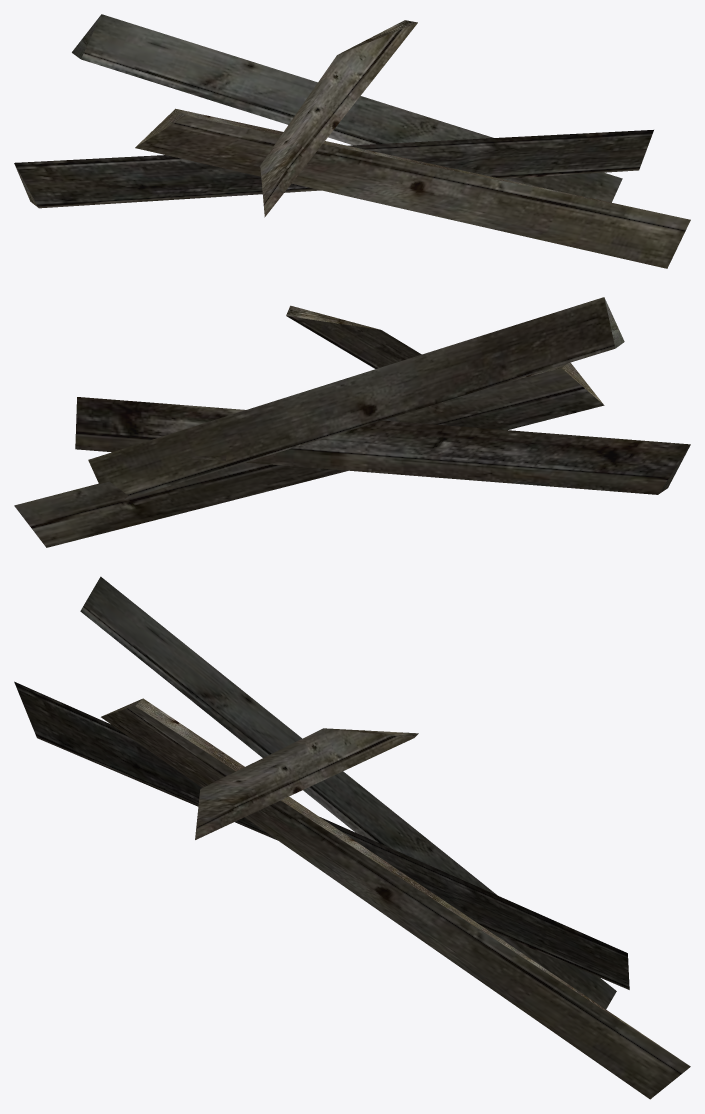
The model's file is prop_destroyedcrateplanks01.glb.
The picture shows the model from 3 angles, top to bottom: view 1: azimuth 30°, elevation 25°; view 2: azimuth 150°, elevation 25°; view 3: azimuth 330°, elevation 25°; orthographic projection.
Bounding box in the file's own units: 36.09 × 19.65 × 3.99.
1 material, 1 textured.
